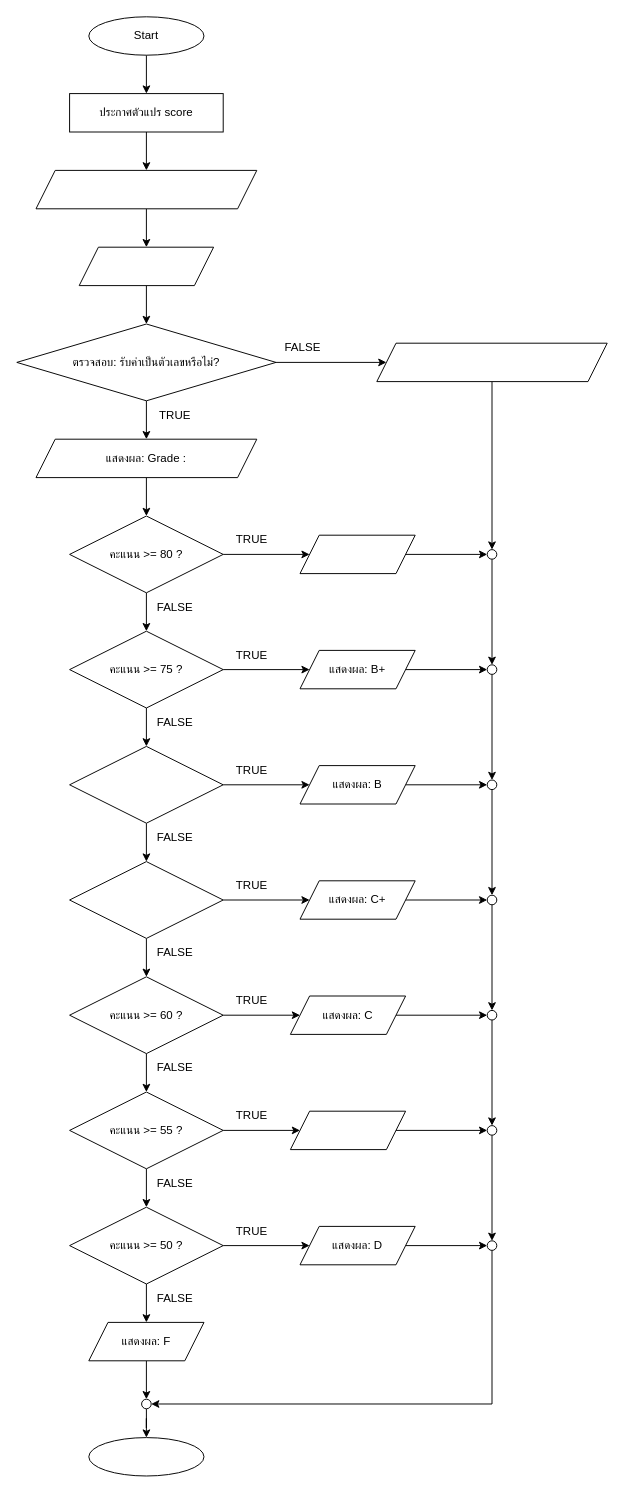
Some shapes in this 624 by 1493 pixel diagram are drawn without their labels. Each missing label, with the centre of its shape:
"Stop" belongs at (146,1456).
"คะแนน >= 65 ?" belongs at (146,899).
"คะแนน >= 70 ?" belongs at (146,784).
"รับค่า: score" belongs at (146,266).
"แสดงผล: A" belongs at (357,554).
"แสดงผล: D+" belongs at (347,1130).
"แสดงผล: Please enter number only." belongs at (491,362).
"แสดงผล: Please enter your score" belongs at (146,189).
